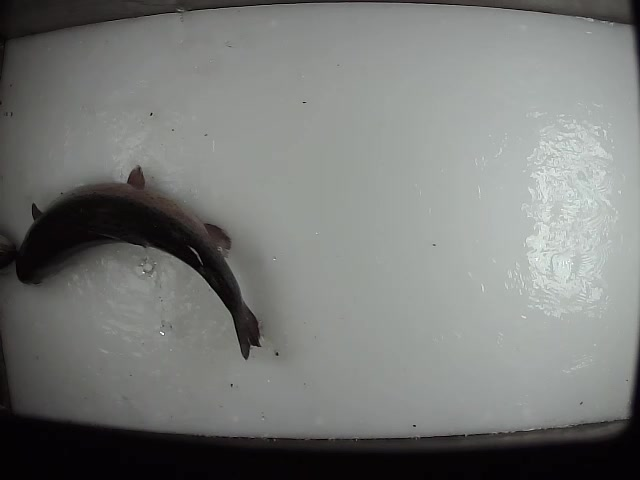Fish: (15, 162, 262, 359)
